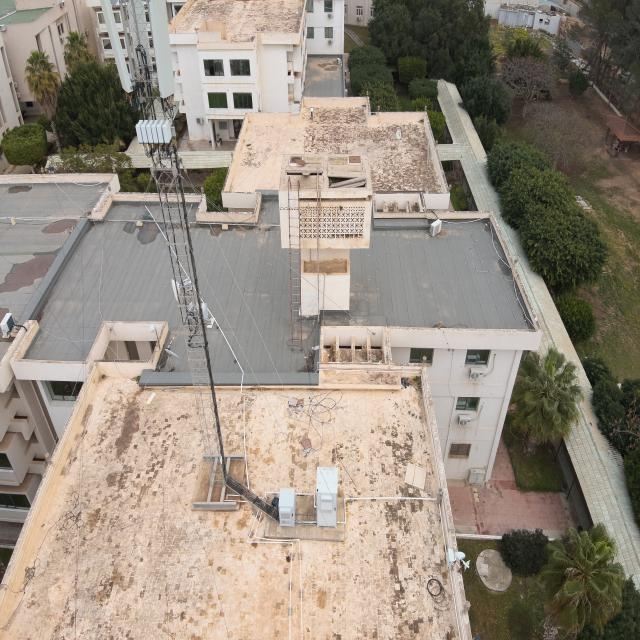antenna: (99, 0, 135, 93), (146, 0, 177, 99), (126, 0, 153, 78)
microware-dish: (169, 276, 195, 306)
power-box: (186, 297, 209, 326)
radio-unit: (136, 116, 174, 151)
